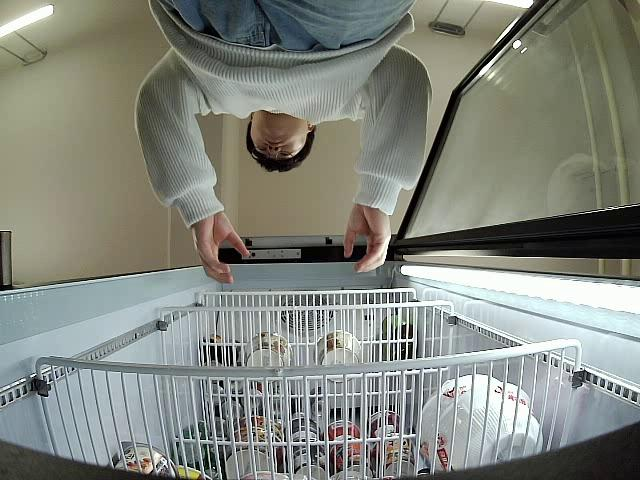00_hand: (192, 211, 251, 285), (343, 204, 391, 277)
